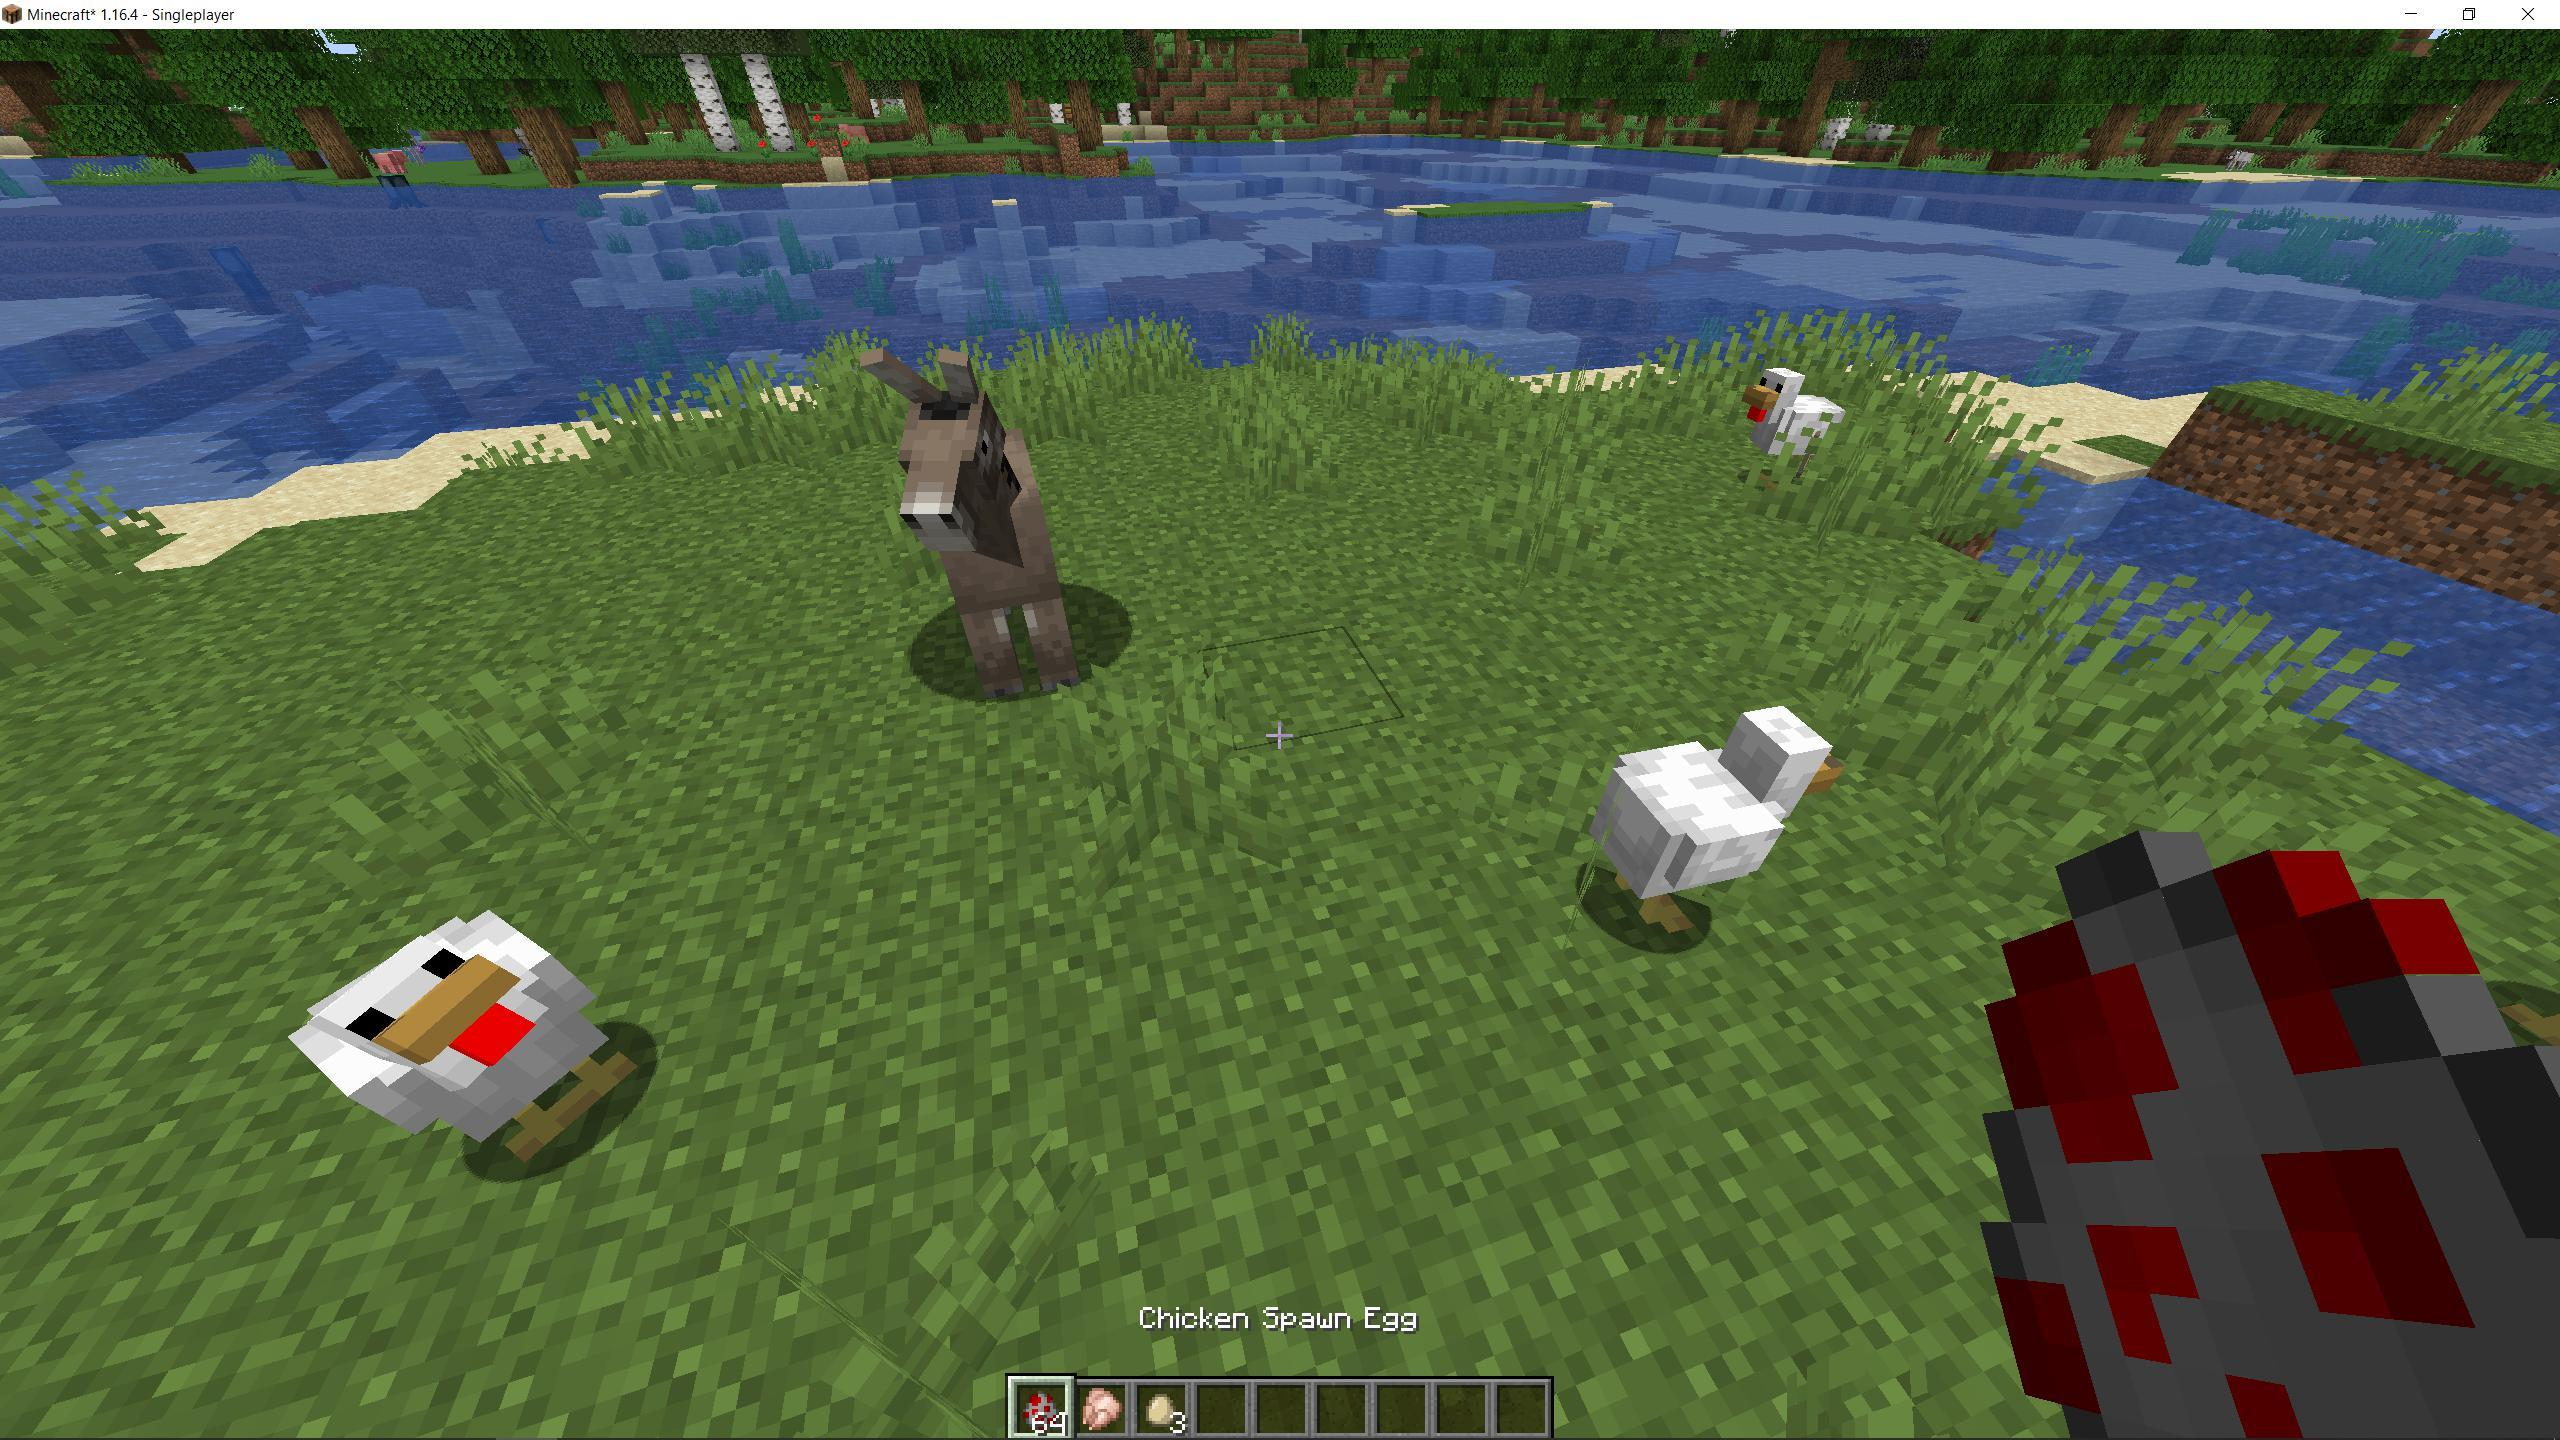chicken: (278, 907, 647, 1171), (1588, 705, 1846, 949)
